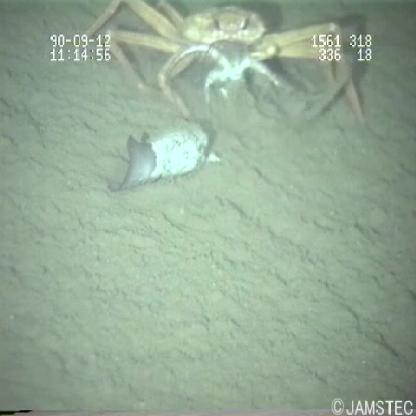Bio: (79, 1, 366, 194)
